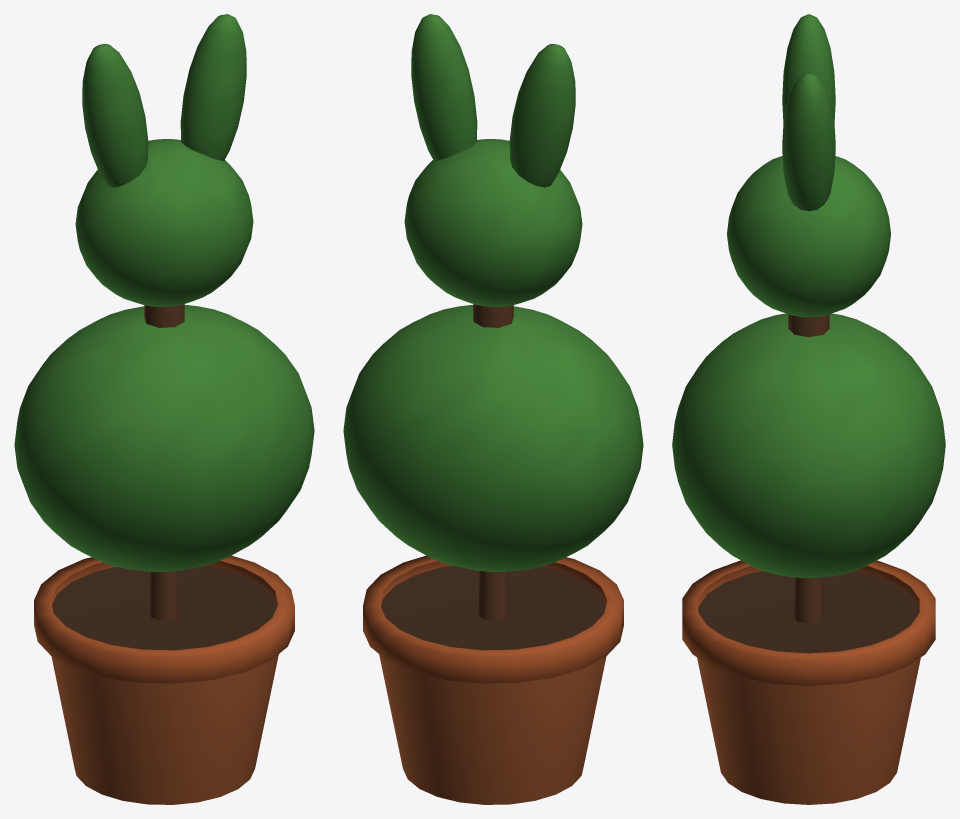
Rendered from furn_disp_topiary.glb.
3 views of the same model, side by side, from view 1: azimuth 30°, elevation 25°; view 2: azimuth 150°, elevation 25°; view 3: azimuth 270°, elevation 25° (orthographic).
Visible parts, largest first — view 1: furn_disp_topiary_main; view 2: furn_disp_topiary_main; view 3: furn_disp_topiary_main.
Part boxes in pixels (<box>): furn_disp_topiary_main: <box>14,14,314,804</box>; furn_disp_topiary_main: <box>343,14,643,804</box>; furn_disp_topiary_main: <box>672,14,945,804</box>.
Size of the model in its own units: 0.44 by 1.17 by 0.4.
